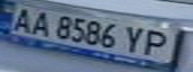5: (66, 16, 87, 44)
6: (100, 20, 121, 50)
8: (51, 12, 75, 42), (84, 17, 103, 47)
A: (3, 4, 39, 34), (24, 8, 54, 38)
P: (136, 26, 178, 57)
Y: (118, 22, 151, 55)
